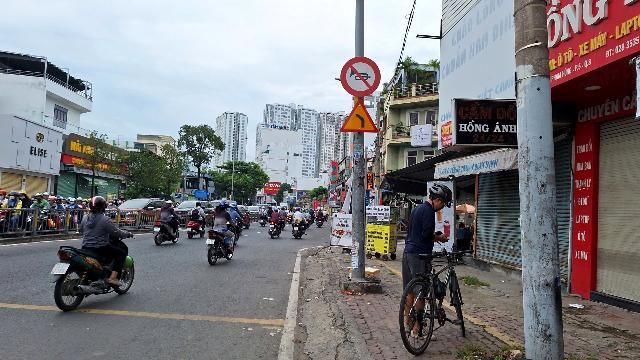cam-bop-coi: (339, 56, 381, 97)
cho-ngoat-nguy-hiem-ben-trai: (339, 99, 378, 133)
